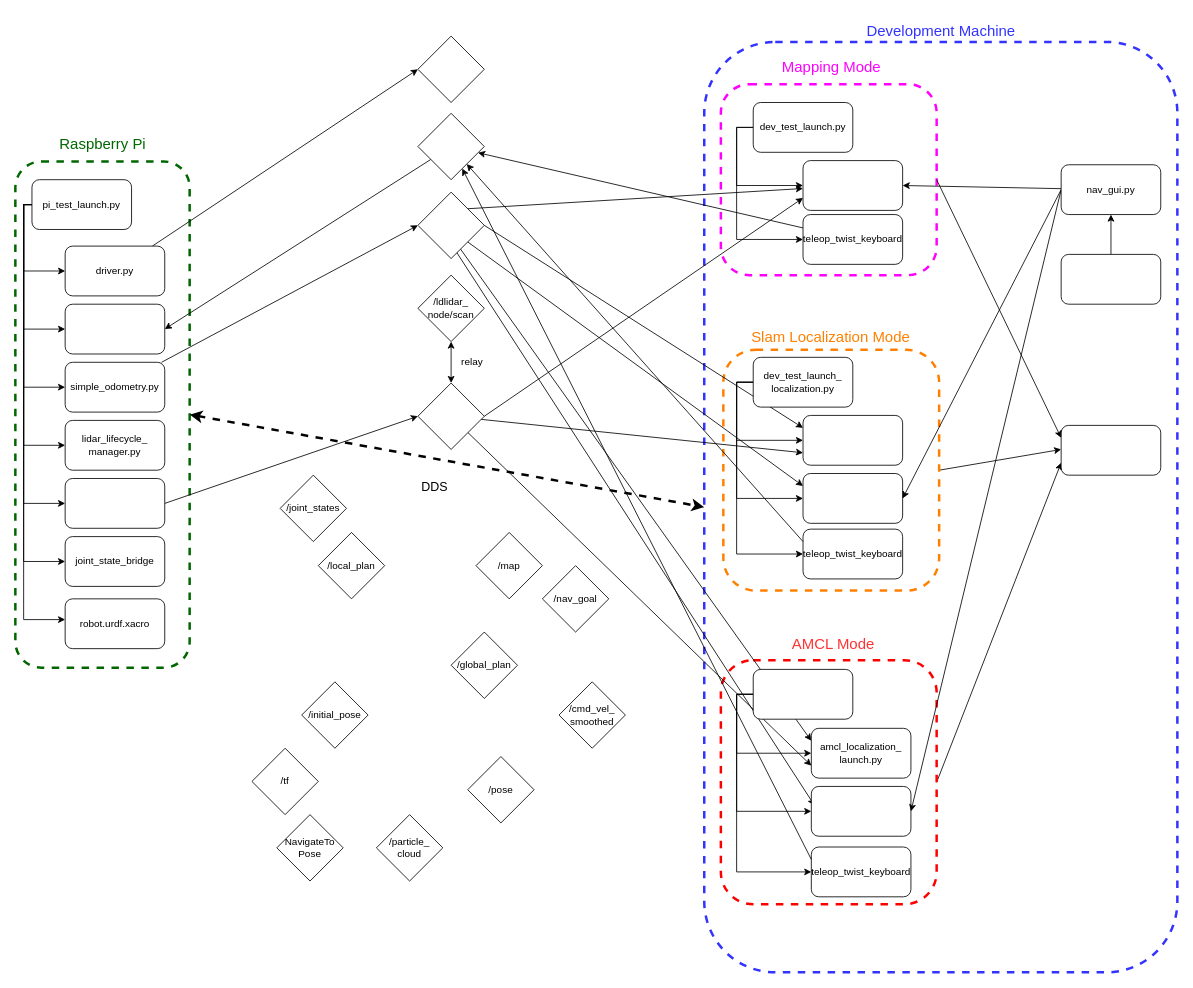
This 1193x988 diagram has some shape labels left out. Each missing label, with the box of its shape:
/cmd_vel: (417, 112, 484, 180)
/motor_vel: (417, 35, 484, 103)
/odom: (417, 191, 484, 259)
/scan: (417, 382, 484, 449)
amcl_navigation_ launch.py: (810, 786, 911, 836)
dev_test_ amcl_launch .py: (752, 669, 853, 719)
ldlidar_bringup. launch.py: (64, 478, 165, 528)
localization_launch.py (Slam_toolbox): (802, 415, 903, 465)
nav_api.py: (1060, 254, 1161, 304)
navigation_launch.py (Nav2): (802, 473, 903, 523)
online_async_ launch.py (Slam_toolbox): (802, 160, 903, 210)
rviz: (1060, 425, 1161, 475)
teleop_bridge.py: (64, 303, 165, 354)
